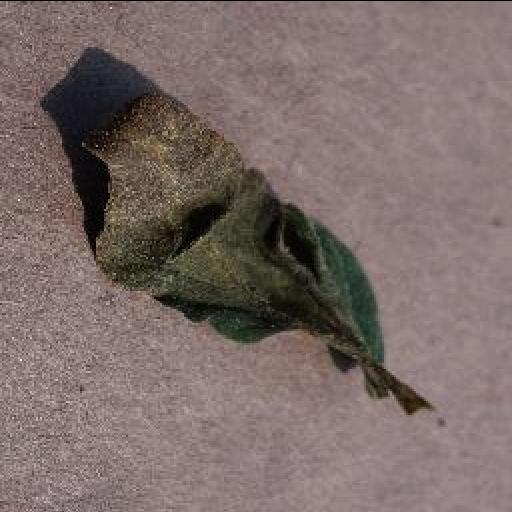disease_tomato: (76, 94, 382, 368)
